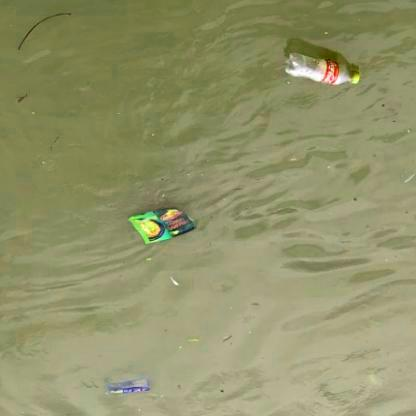Plastic: (281, 50, 362, 86), (104, 379, 153, 397)
Trash: (129, 206, 195, 245)
